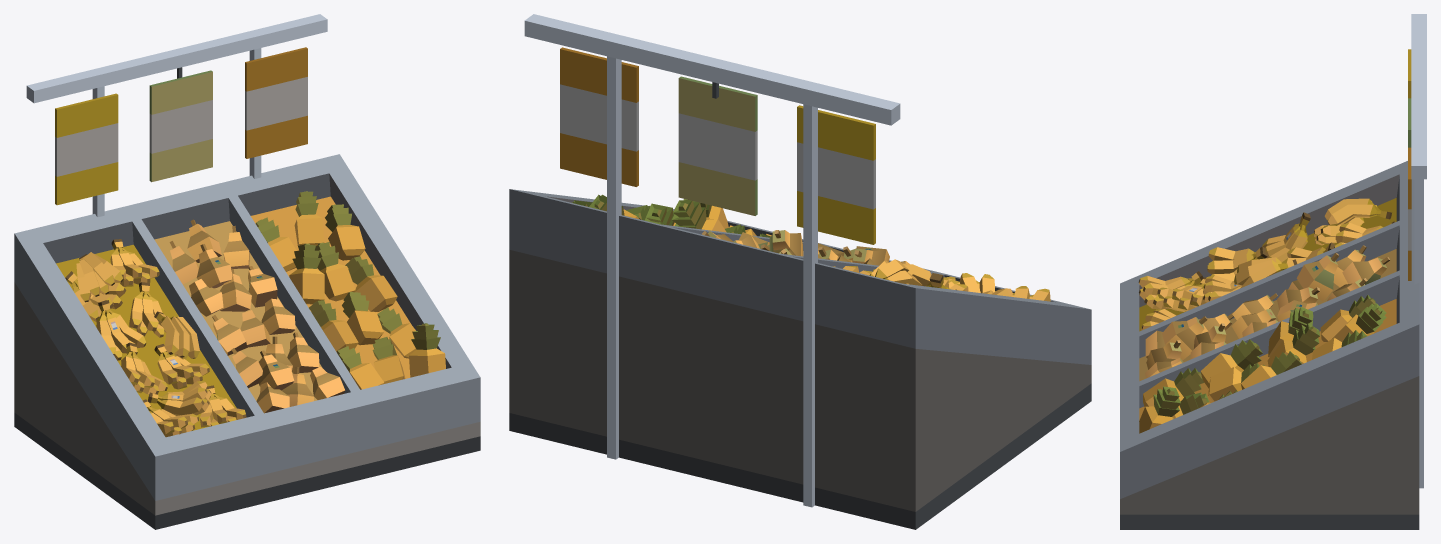
File: rottenfruit4.fbx
3 renders of one model, left to right at view 1: azimuth 30°, elevation 25°; view 2: azimuth 150°, elevation 25°; view 3: azimuth 270°, elevation 25°, orthographic. The views are drawn at different scales.
Visible parts, largest first — view 1: SI_Prop_ProduceSection_04; view 2: SI_Prop_ProduceSection_04; view 3: SI_Prop_ProduceSection_04.
Part boxes in pixels (bbox=[...]): SI_Prop_ProduceSection_04: bbox=[14, 14, 480, 529]; SI_Prop_ProduceSection_04: bbox=[509, 14, 1091, 529]; SI_Prop_ProduceSection_04: bbox=[1120, 14, 1426, 529].
Bounding box in the file's own units: 4 × 3.93 × 3.08.
